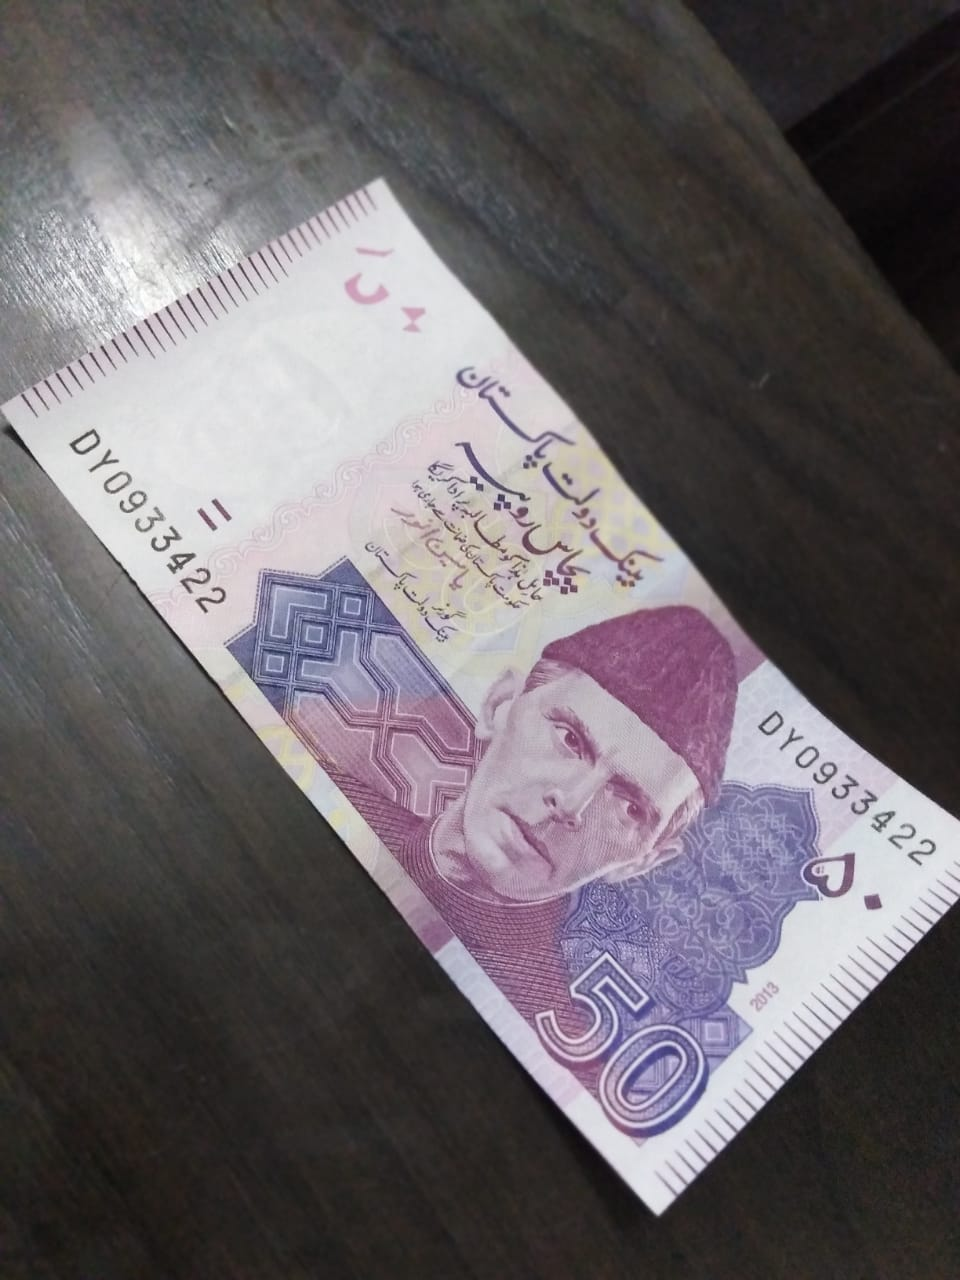50 rupee: (22, 172, 960, 1204)
